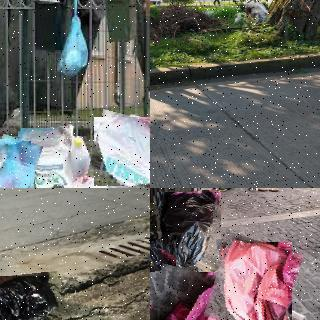Garbage: (209, 237, 297, 320), (155, 190, 223, 274), (150, 267, 241, 320), (90, 113, 150, 188), (19, 126, 73, 188), (0, 273, 62, 320), (0, 136, 38, 188), (150, 240, 176, 311), (245, 0, 268, 22), (150, 9, 159, 46)
